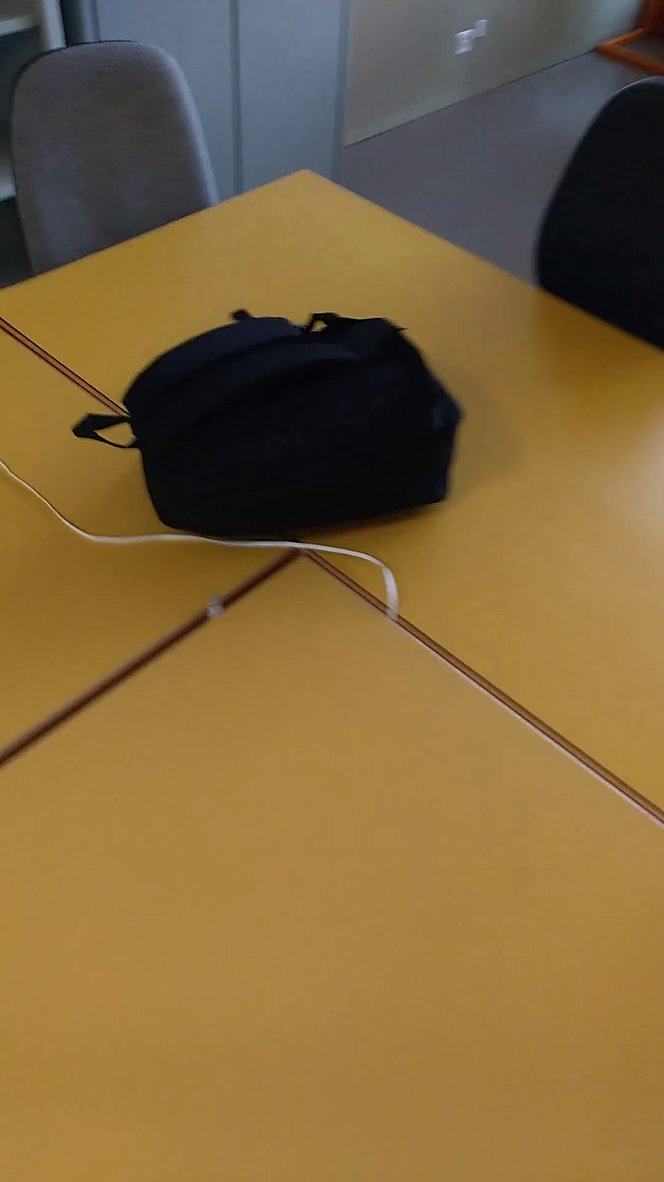bag: (64, 294, 484, 553)
chair: (5, 30, 232, 292)
